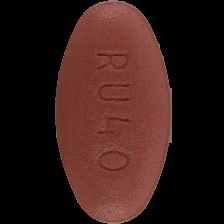16252-618: (0, 0, 224, 224)
